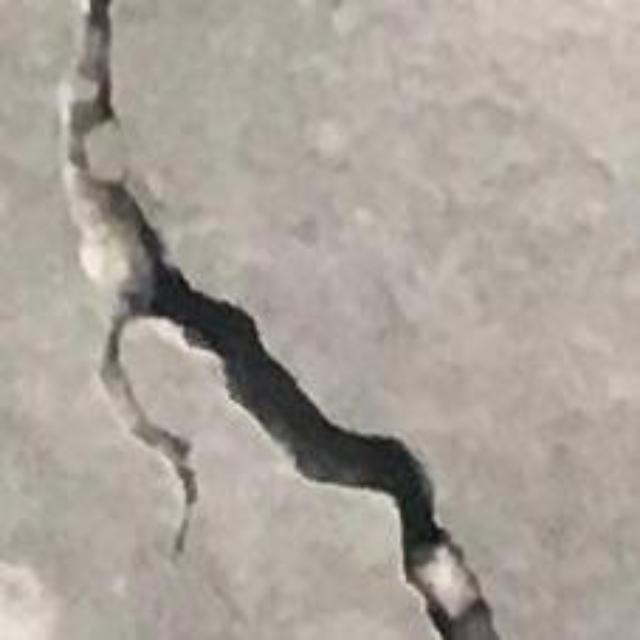crack: (60, 0, 501, 639)
